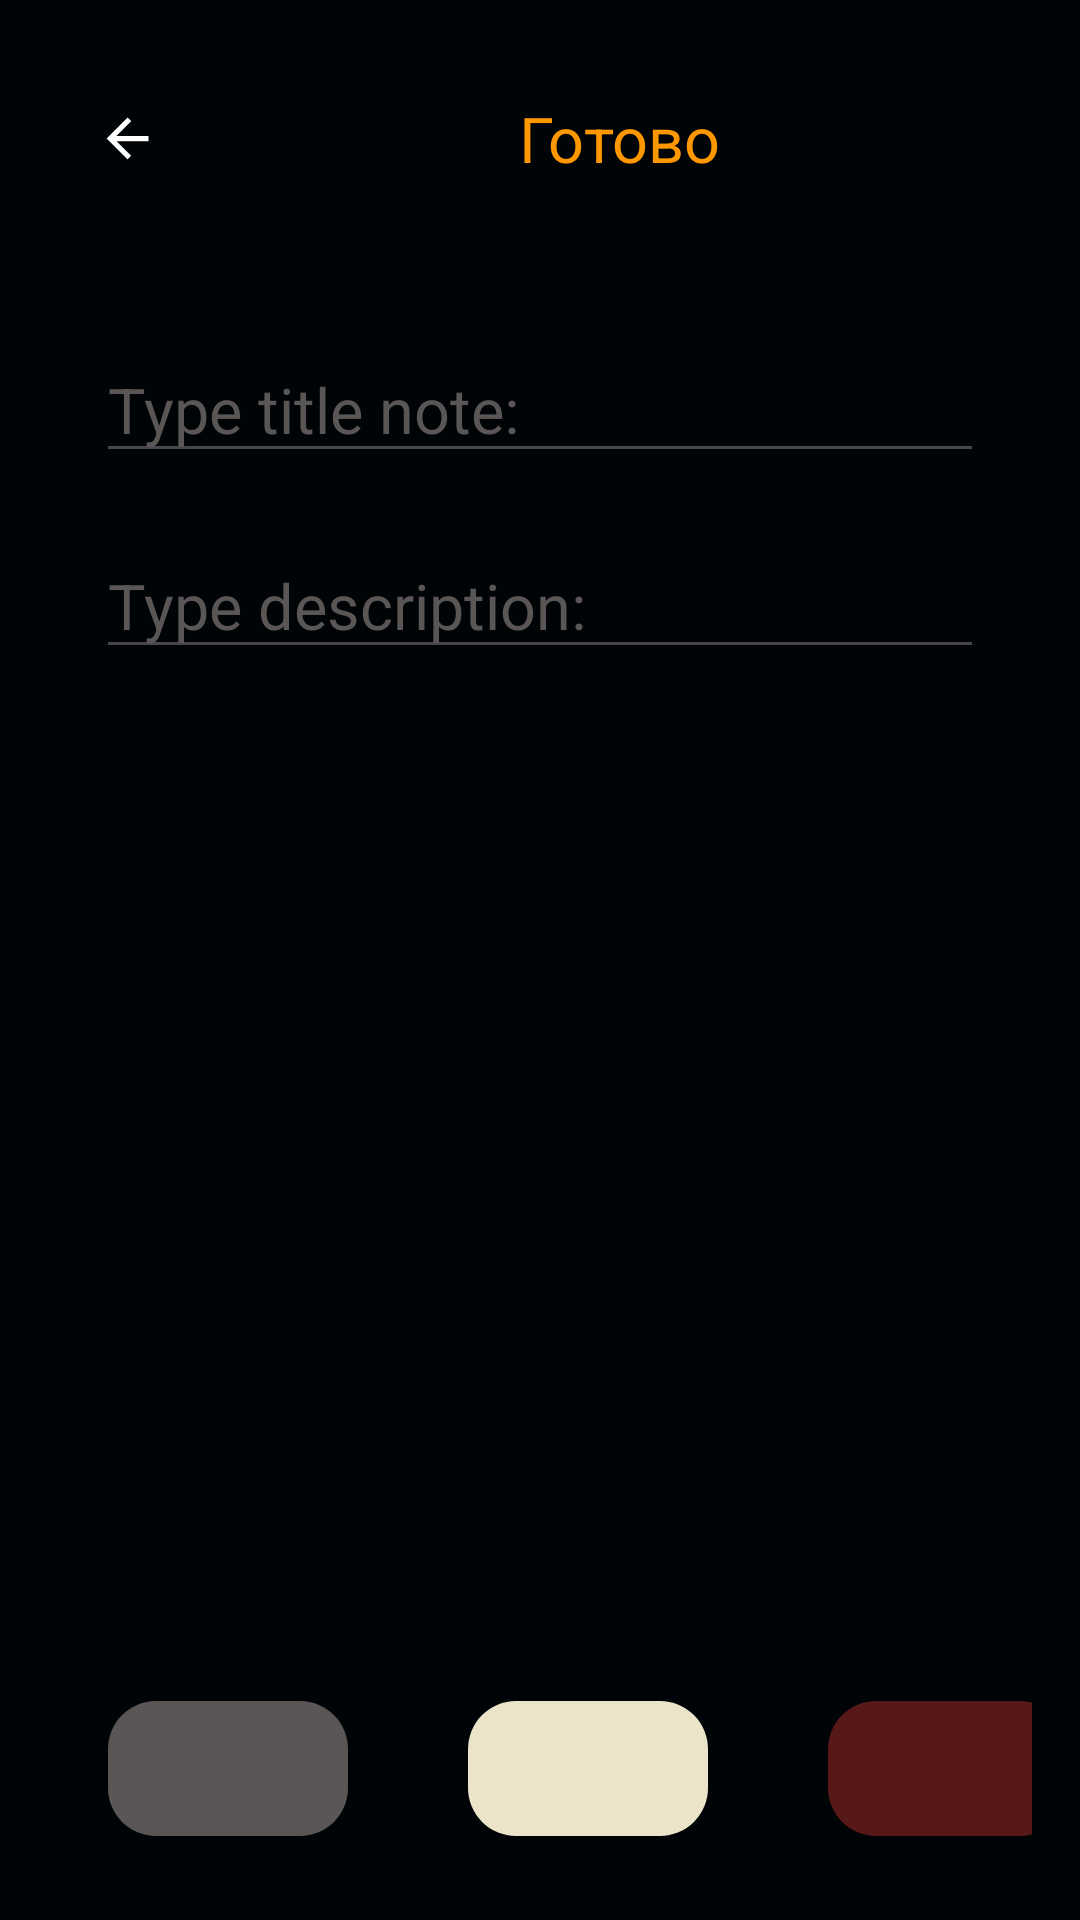

Icon click points for this 1080*1920 phone screenshot, format (x=x, y=y):
arrow back: (x=127, y=138)
